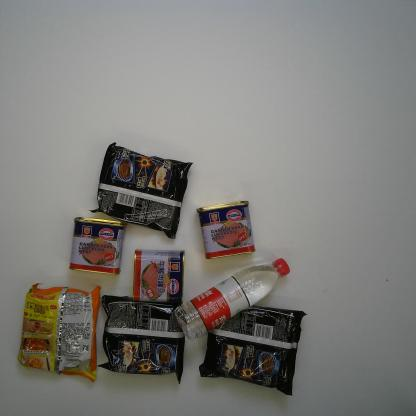Canned Food: (196, 200, 255, 261), (68, 216, 129, 275), (133, 247, 185, 305)
Drink: (174, 257, 291, 338)
Instant Noodles: (88, 141, 194, 240), (198, 301, 308, 395), (16, 282, 102, 382), (96, 294, 186, 386)
